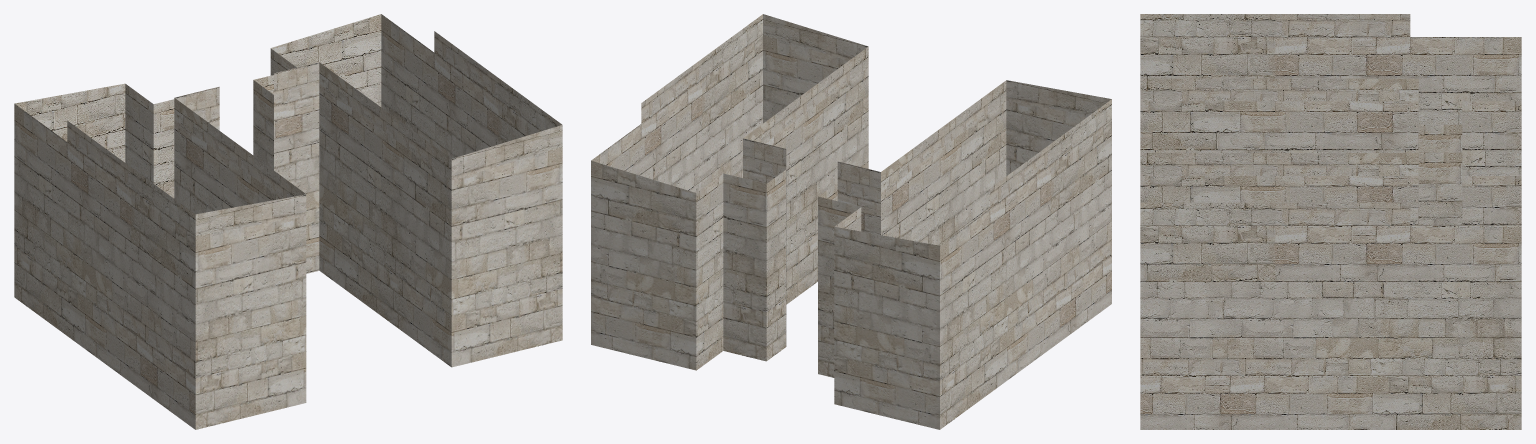
The model's file is propylaea_walls.dae.
3 views of the same model, side by side, from view 1: azimuth 30°, elevation 25°; view 2: azimuth 150°, elevation 25°; view 3: azimuth 270°, elevation 25° (orthographic). The views are drawn at different scales.
Parts seen in each view (by area): view 1: propylaea_walls; view 2: propylaea_walls; view 3: propylaea_walls.
Part boxes in pixels (left/top/right/bottom): propylaea_walls: left=14, top=14, right=562, bottom=429; propylaea_walls: left=591, top=14, right=1111, bottom=429; propylaea_walls: left=1140, top=14, right=1521, bottom=429.
Size of the model in its own units: 22.38 by 12.57 by 19.13.
